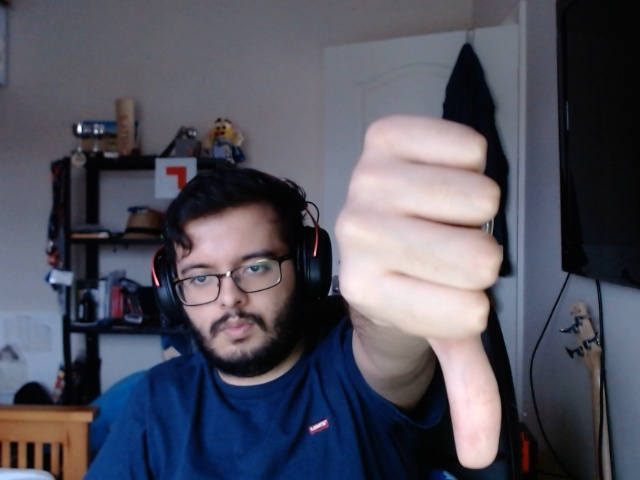Thumbs down: (334, 109, 523, 469)
